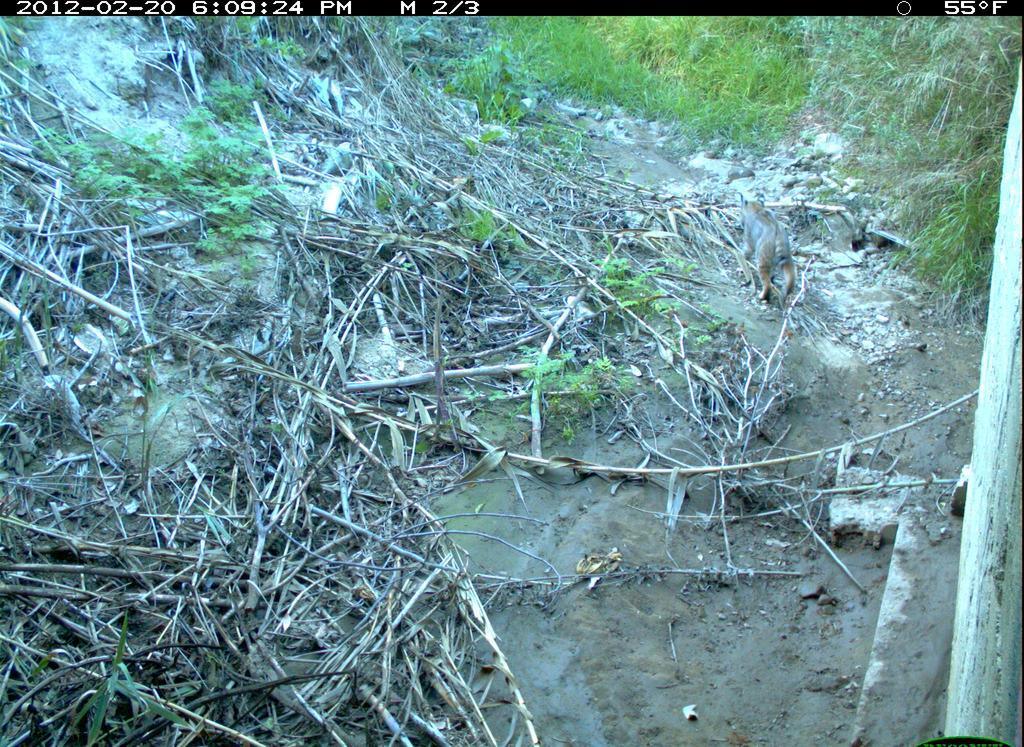bobcat: (726, 184, 816, 318)
